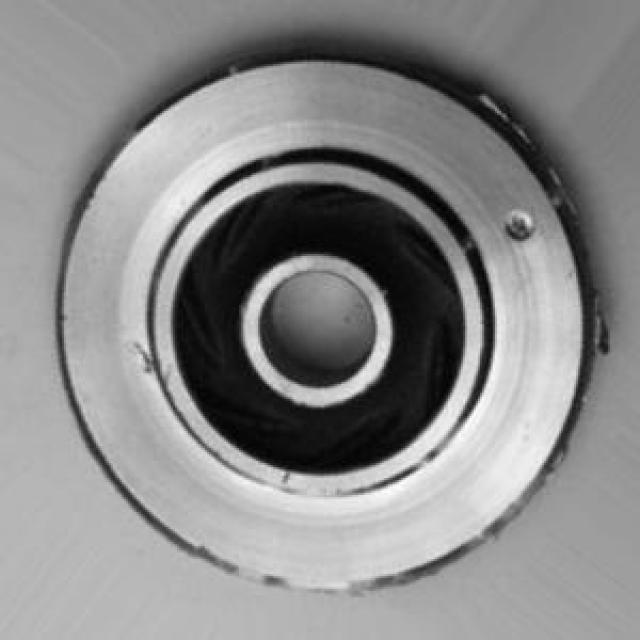Defect: (502, 204, 539, 247)
